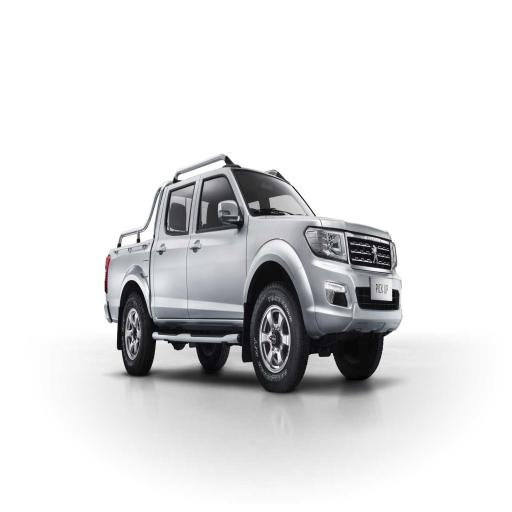pickup: (105, 154, 402, 391)
